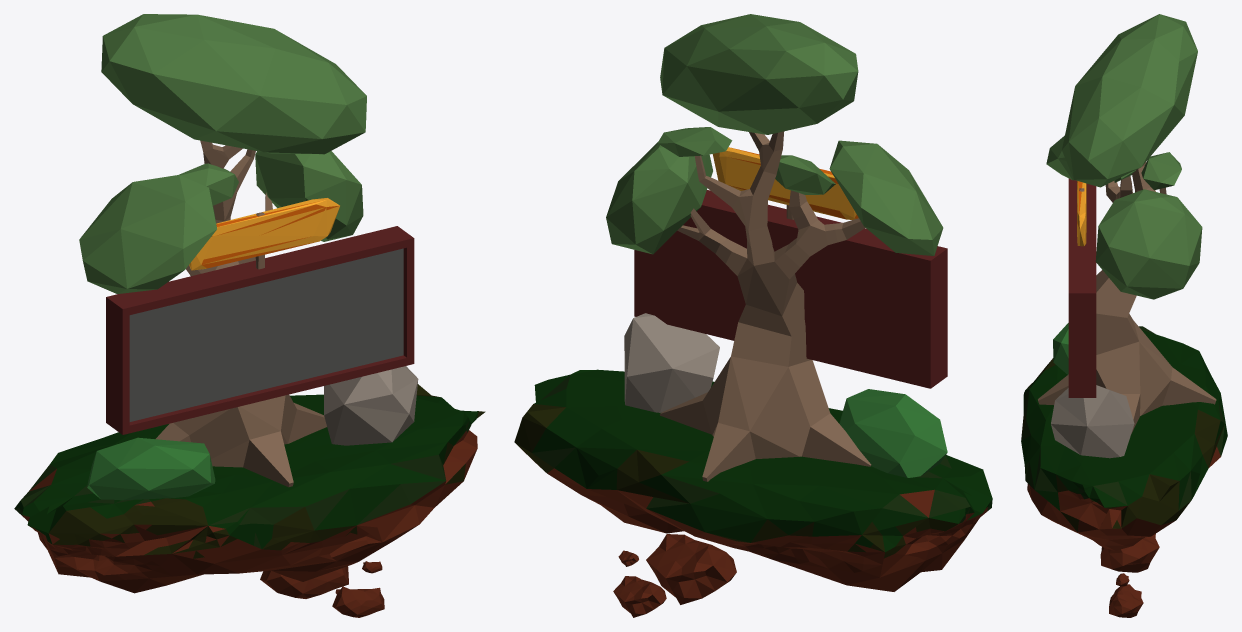
The model's file is cartel2.fbx.
3 views of the same model, side by side, from view 1: azimuth 30°, elevation 25°; view 2: azimuth 150°, elevation 25°; view 3: azimuth 270°, elevation 25° (orthographic). The views are drawn at different scales.
Parts seen in each view (by area): view 1: isla, follaje1, pantalla, tronco1, arbusto1, roca, cartel; view 2: isla, follaje1, pantalla, tronco1, roca, arbusto1, cartel; view 3: follaje1, isla, tronco1, pantalla, roca, cartel, arbusto1.
Part boxes in pixels (bbox=[...]): isla: bbox=[14, 384, 485, 617]; follaje1: bbox=[79, 14, 366, 293]; pantalla: bbox=[106, 226, 414, 434]; tronco1: bbox=[155, 140, 326, 487]; arbusto1: bbox=[87, 437, 215, 500]; roca: bbox=[324, 366, 418, 445]; cartel: bbox=[189, 198, 339, 270]; isla: bbox=[514, 369, 992, 617]; follaje1: bbox=[606, 14, 943, 255]; pantalla: bbox=[634, 190, 947, 388]; tronco1: bbox=[659, 131, 871, 481]; roca: bbox=[624, 313, 719, 412]; arbusto1: bbox=[839, 389, 947, 477]; cartel: bbox=[712, 147, 858, 219]; follaje1: bbox=[1046, 14, 1202, 299]; isla: bbox=[1021, 326, 1227, 617]; tronco1: bbox=[1038, 162, 1216, 433]; pantalla: bbox=[1068, 178, 1096, 397]; roca: bbox=[1051, 385, 1134, 458]; cartel: bbox=[1077, 181, 1086, 246]; arbusto1: bbox=[1053, 323, 1068, 374].
Bounding box in the file's own units: 1494 × 1987 × 716.
